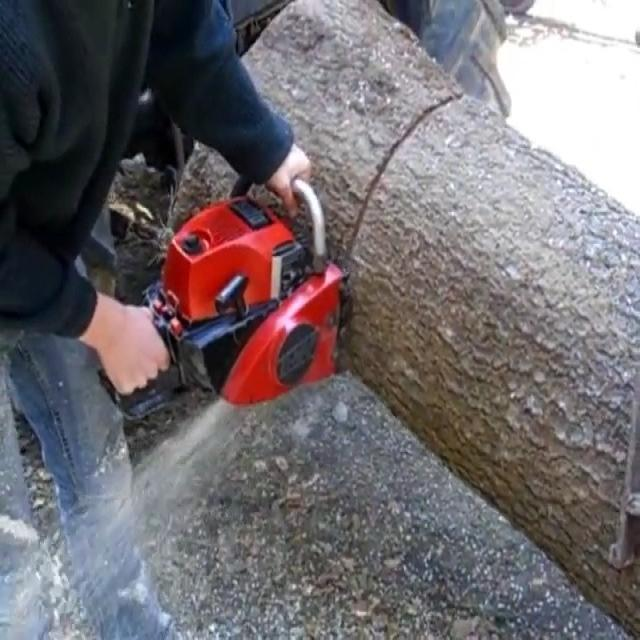Chainsaw: (92, 156, 372, 442)
